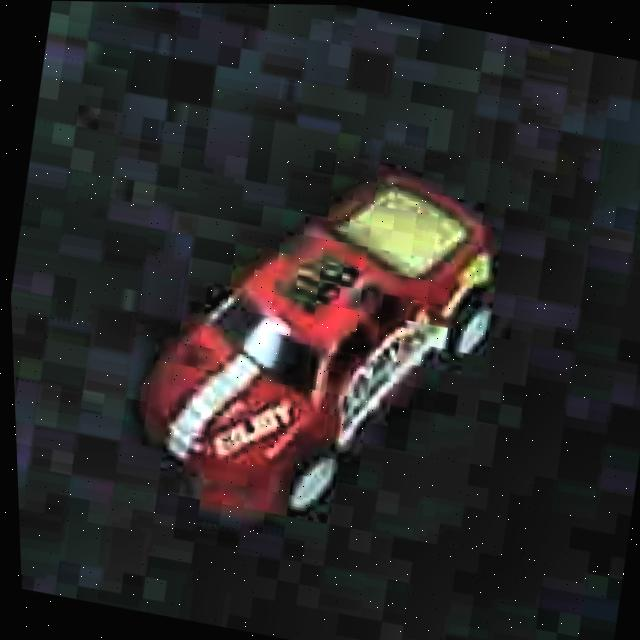car: (108, 119, 534, 562)
